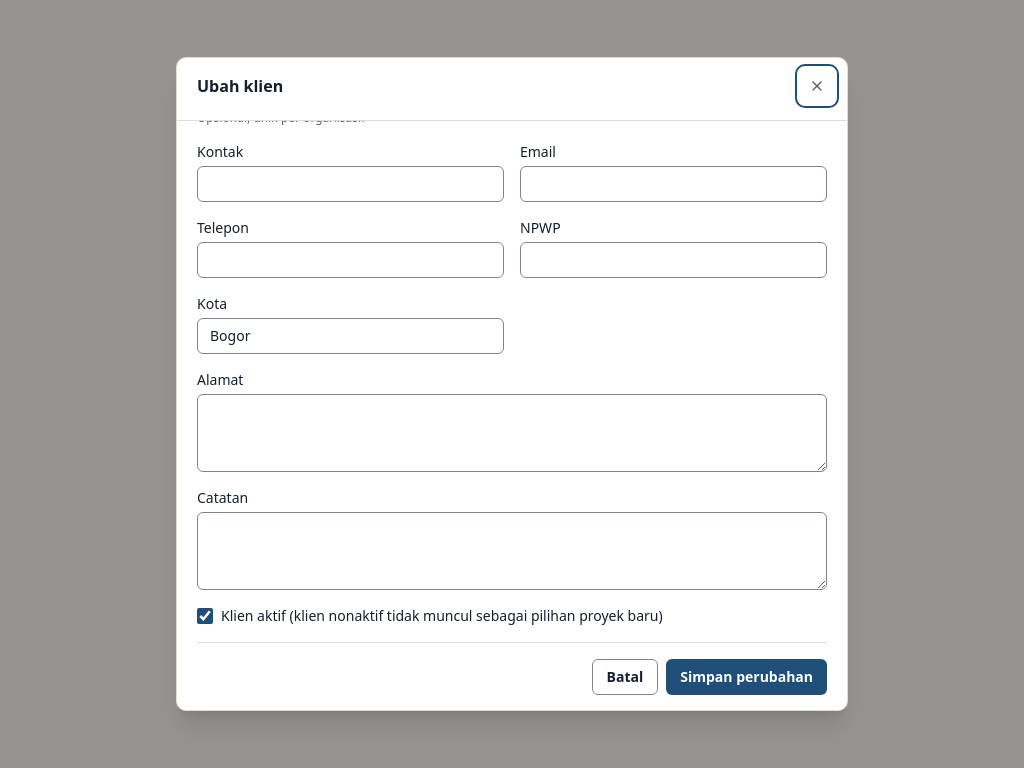
Test: ClientFormDialog › edits with the last-read version and surfaces conflicts
(page scrolled)
Click the button "Simpan perubahan" at (747,677), box [666,659,827,695]
(page scrolled)
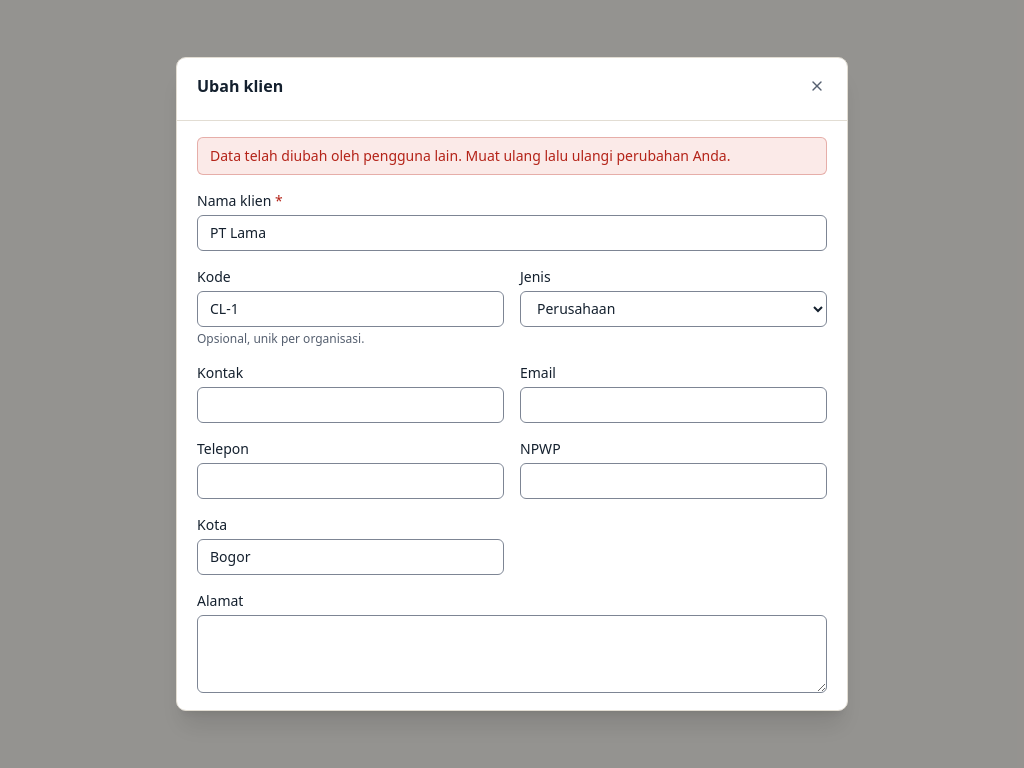
expect the message shows "diubah oleh pengguna lain": met, box [210,146,730,165]
